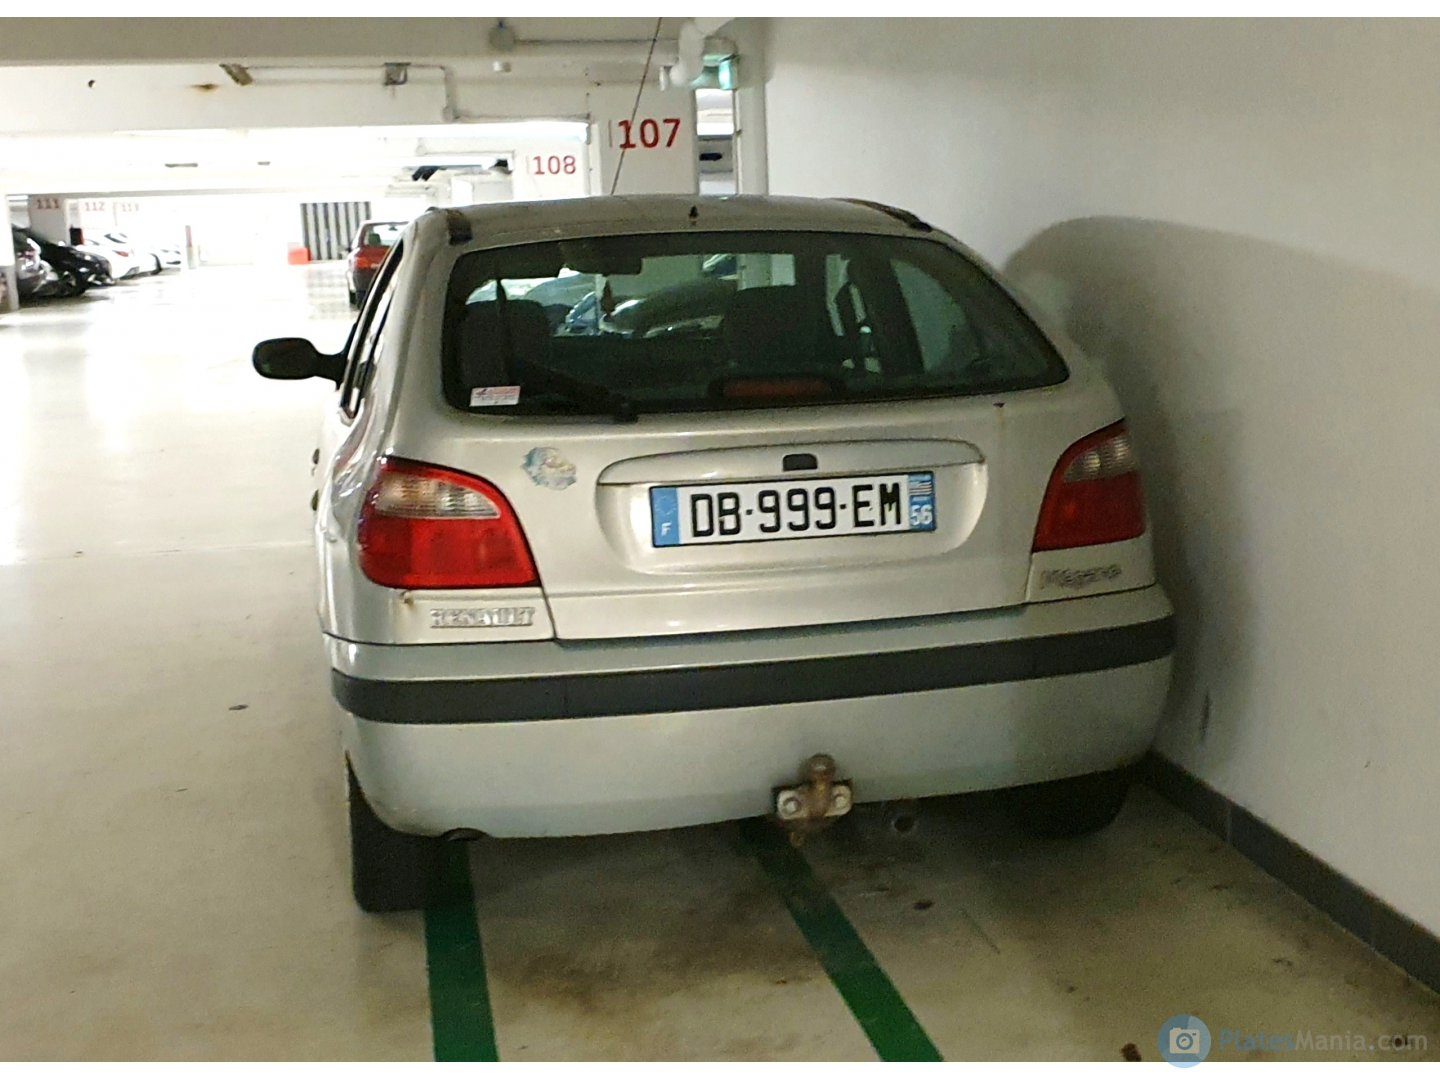licence plate: (643, 470, 939, 550)
